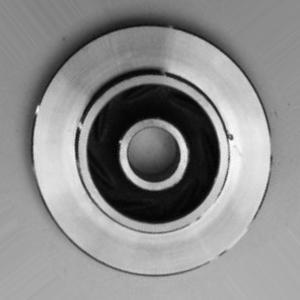defect: (212, 110, 257, 184)
